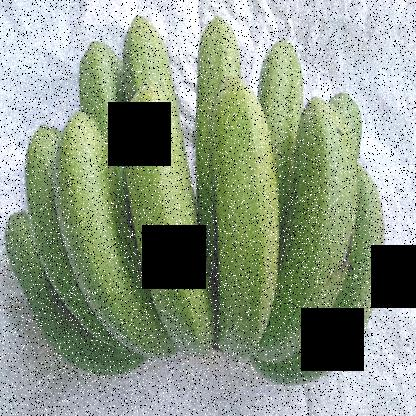freshunripe: (50, 98, 177, 376), (118, 79, 216, 361), (214, 69, 280, 366), (23, 117, 94, 308), (170, 3, 245, 140), (73, 26, 130, 131), (259, 26, 308, 136), (119, 9, 164, 88)
unripe: (261, 83, 348, 373), (304, 154, 383, 403)
